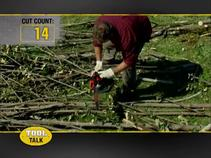down: (88, 71, 116, 92)
sit: (88, 71, 116, 92)
